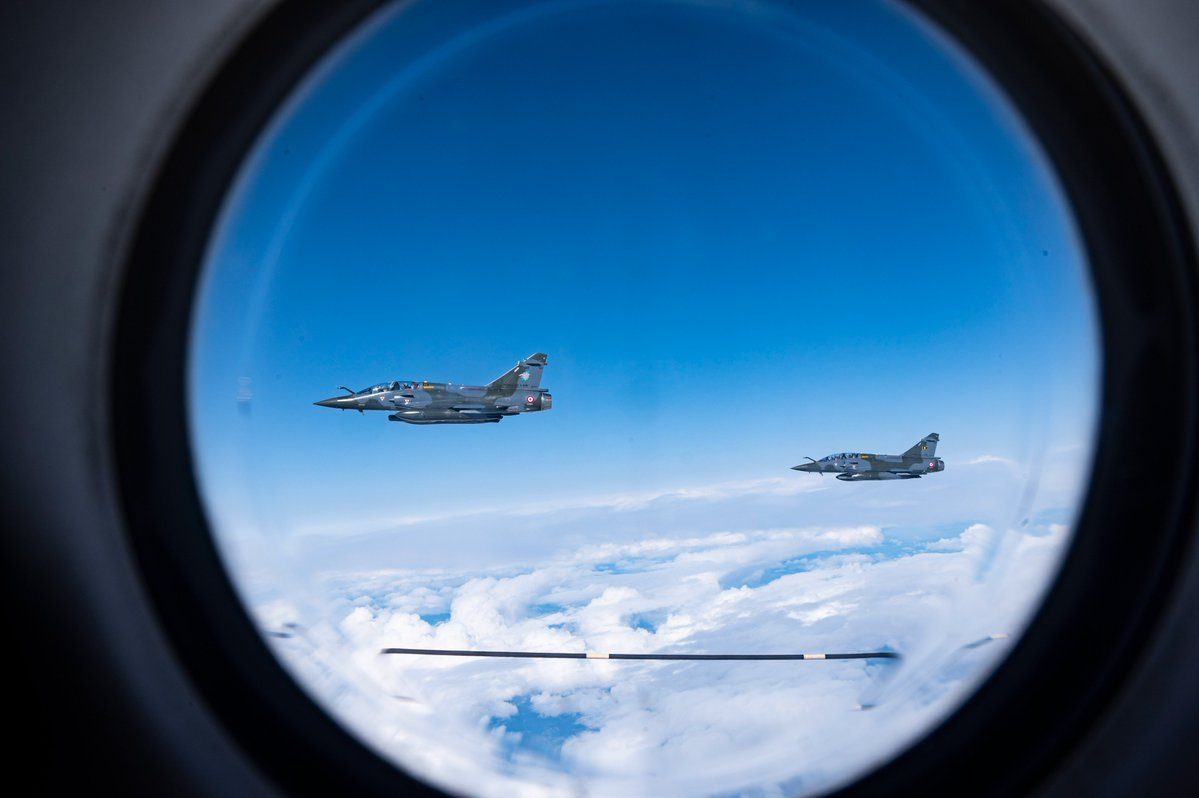Mirage2000: (312, 352, 553, 425), (789, 432, 945, 482)
